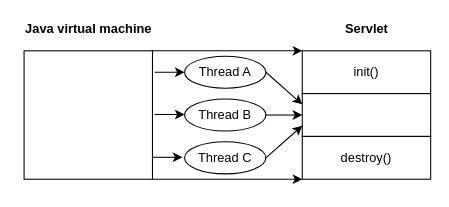
The diagram is 449 pixels wide and 207 high, and some of its shapes have lost their labels. Each missing label, with the box of its shape:
service(): (301, 93, 431, 136)
Servlet Container: (23, 50, 152, 179)
